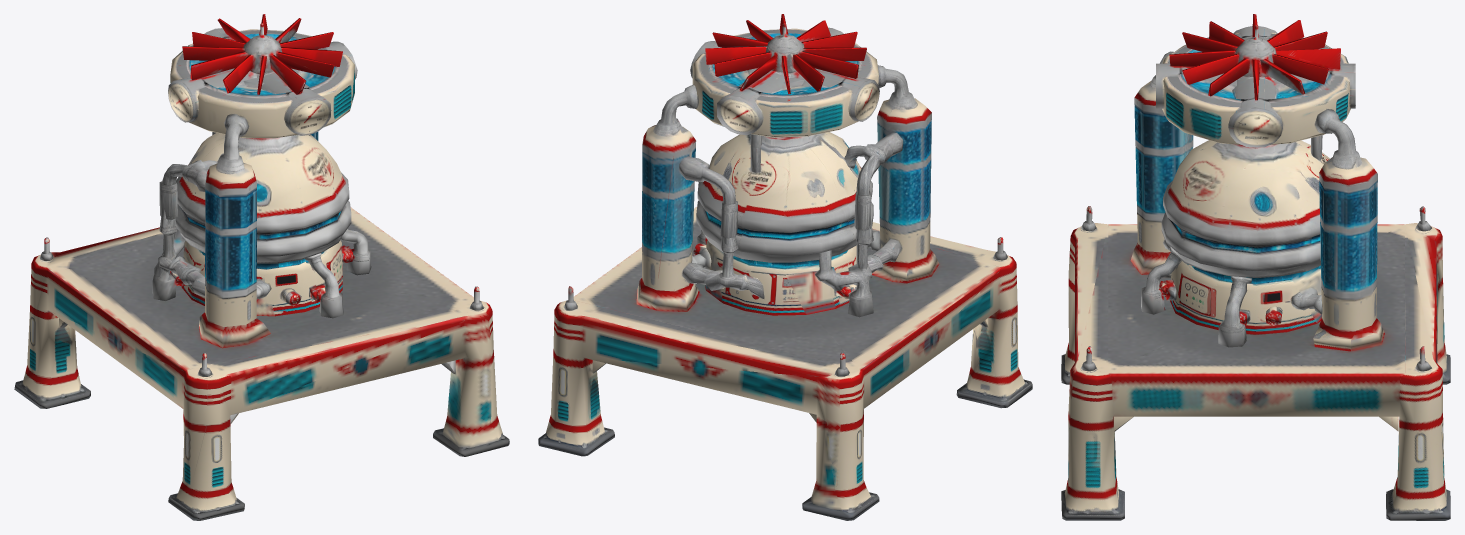
The model's file is purifier.fbx.
3 renders of one model, left to right at view 1: azimuth 30°, elevation 25°; view 2: azimuth 150°, elevation 25°; view 3: azimuth 270°, elevation 25°, orthographic. The views are drawn at different scales.
Parts seen in each view (by area): view 1: Mesh_0; view 2: Mesh_0; view 3: Mesh_0.
Part boxes in pixels (bbox=[...]): Mesh_0: bbox=[14, 14, 509, 520]; Mesh_0: bbox=[538, 14, 1032, 520]; Mesh_0: bbox=[1061, 14, 1450, 520].
Size of the model in its own units: 79.88 by 95.07 by 80.91.
Materials: 1 (1 with a texture image).
